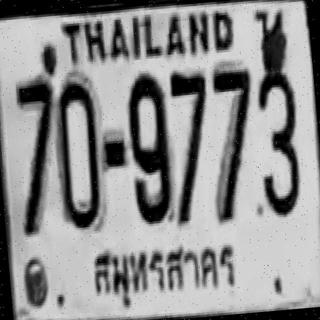N00: (54, 76, 104, 228)
N03: (251, 72, 304, 218)
N07: (10, 79, 63, 234), (166, 68, 218, 224), (208, 69, 261, 220)
N09: (125, 73, 174, 226)
P58: (85, 236, 242, 312)
